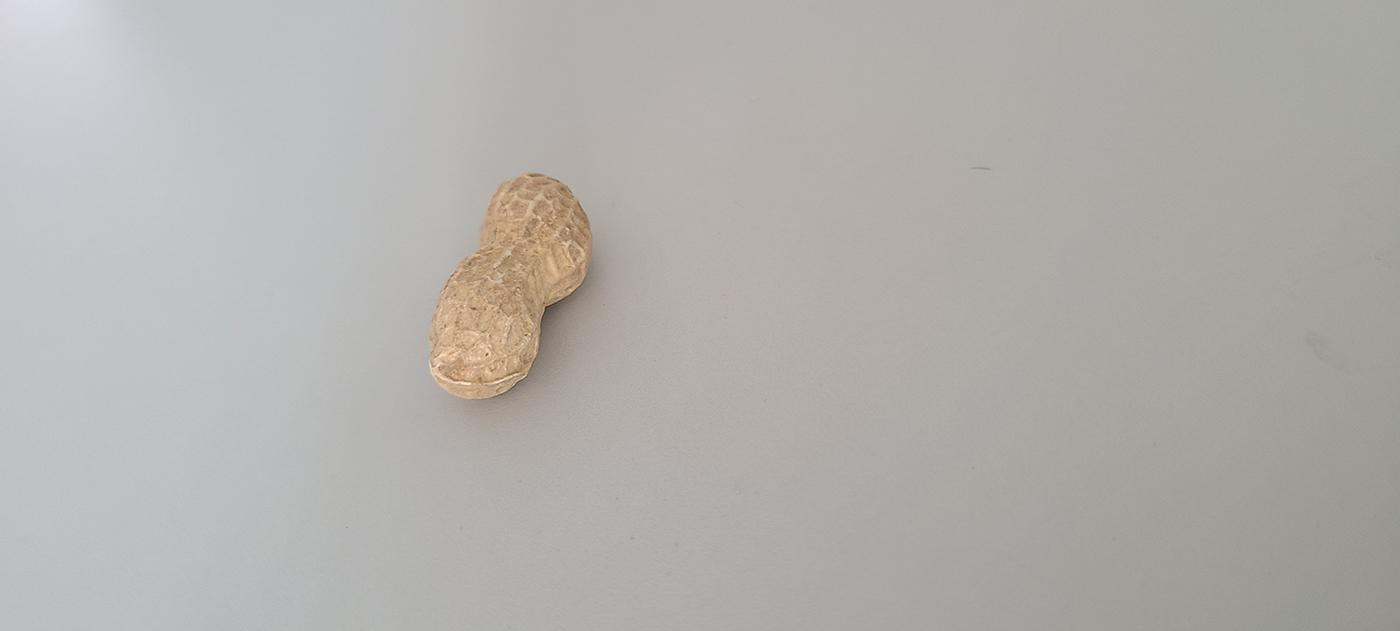h: (425, 168, 596, 402)
